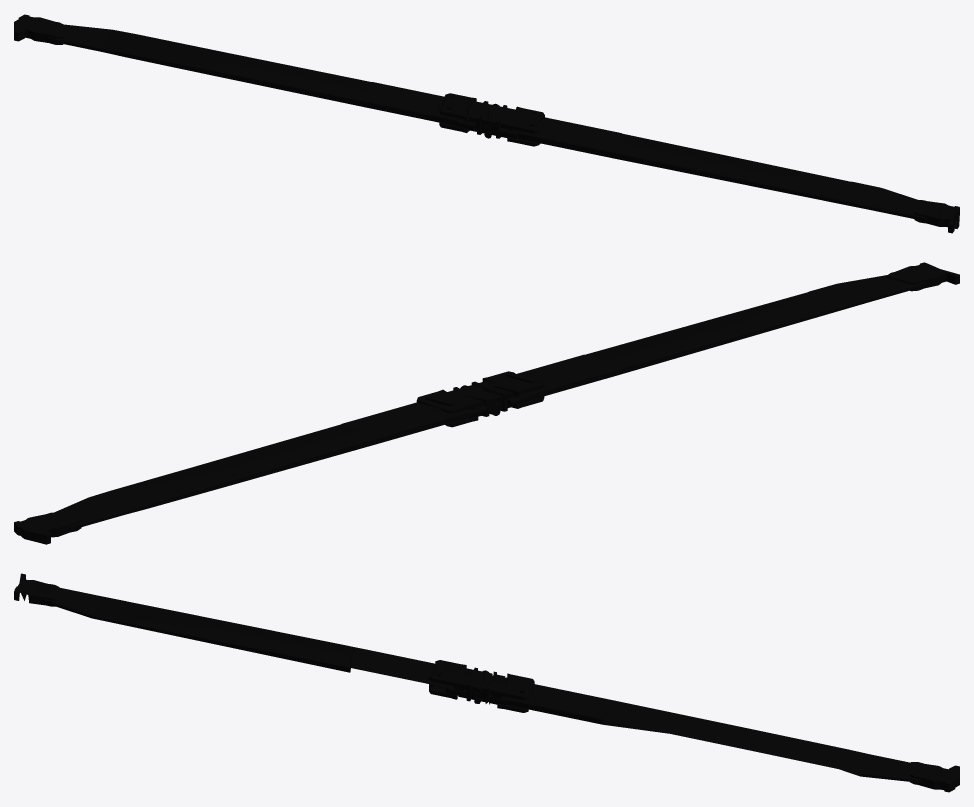
The model's file is elicopter_elice2.obj.
3 renders of one model, top to bottom at view 1: azimuth 90°, elevation 25°; view 2: azimuth 150°, elevation 25°; view 3: azimuth 270°, elevation 25°, orthographic. The views are drawn at different scales.
Visible parts, largest first — view 1: baling_baling_1.001; view 2: baling_baling_1.001; view 3: baling_baling_1.001.
Part boxes in pixels (x1=…): baling_baling_1.001: x1=14, y1=14, x2=959, y2=233; baling_baling_1.001: x1=14, y1=262, x2=959, y2=544; baling_baling_1.001: x1=14, y1=573, x2=959, y2=792.
Size of the model in its own units: 9.41 by 0.4232 by 17.87.
1 material, 1 textured.
